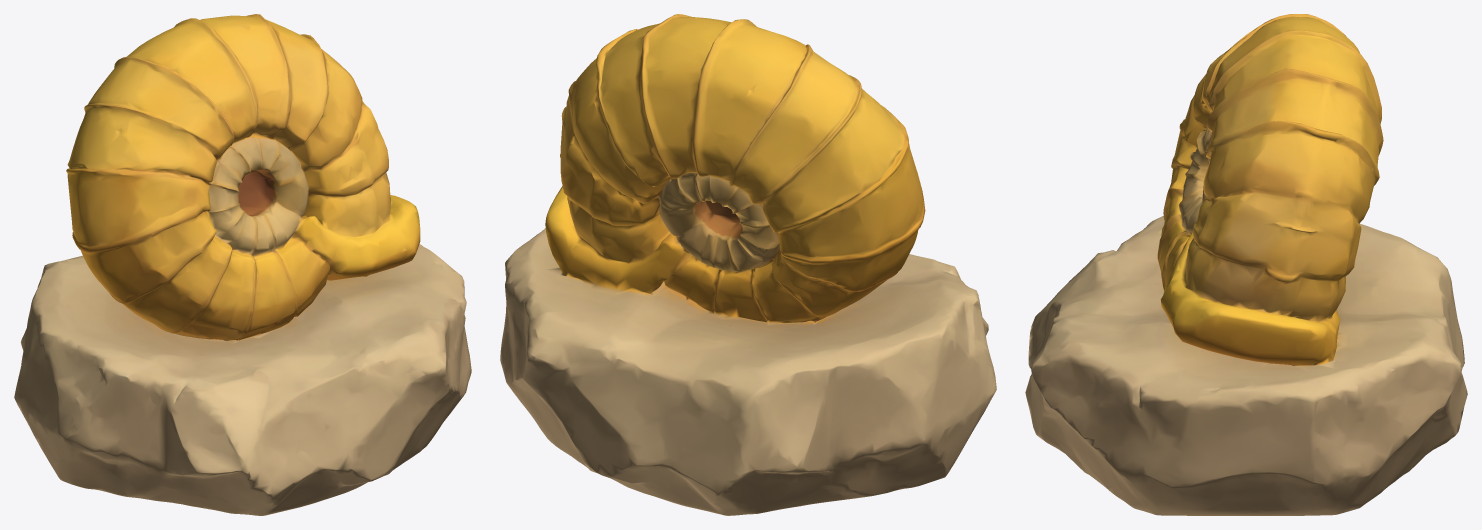
The model's file is ammonite_raw.glb.
3 renders of one model, left to right at view 1: azimuth 30°, elevation 25°; view 2: azimuth 150°, elevation 25°; view 3: azimuth 270°, elevation 25°, orthographic. The views are drawn at different scales.
Visible parts, largest first — view 1: tripo_node_c50d6eb9-5c6f-4047-b415-eb878aa60329; view 2: tripo_node_c50d6eb9-5c6f-4047-b415-eb878aa60329; view 3: tripo_node_c50d6eb9-5c6f-4047-b415-eb878aa60329.
Part boxes in pixels (box(x1,y1,x2,y2)): tripo_node_c50d6eb9-5c6f-4047-b415-eb878aa60329: box(14, 14, 471, 515); tripo_node_c50d6eb9-5c6f-4047-b415-eb878aa60329: box(500, 14, 996, 515); tripo_node_c50d6eb9-5c6f-4047-b415-eb878aa60329: box(1025, 14, 1467, 515).
Size of the model in its own units: 1 by 0.9632 by 0.9366.
1 material, 1 textured.
